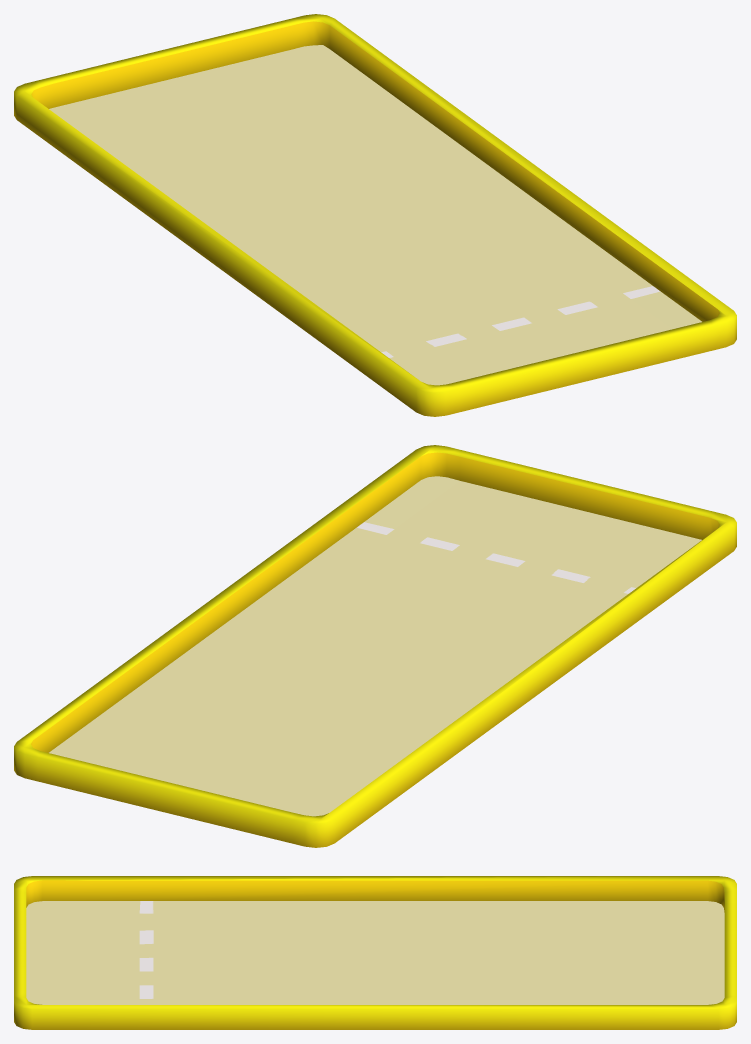
The model's file is board.glb.
The picture shows the model from 3 angles, top to bottom: view 1: azimuth 30°, elevation 25°; view 2: azimuth 150°, elevation 25°; view 3: azimuth 270°, elevation 25°; orthographic projection. The views are drawn at different scales.
Parts seen in each view (by area): view 1: board; view 2: board; view 3: board.
Part boxes in pixels (<box>): board: <box>14,14,736,416</box>; board: <box>14,445,736,847</box>; board: <box>14,876,736,1029</box>.
Size of the model in its own units: 3.7 by 0.2677 by 8.49.
Materials: 1 (1 with a texture image).
